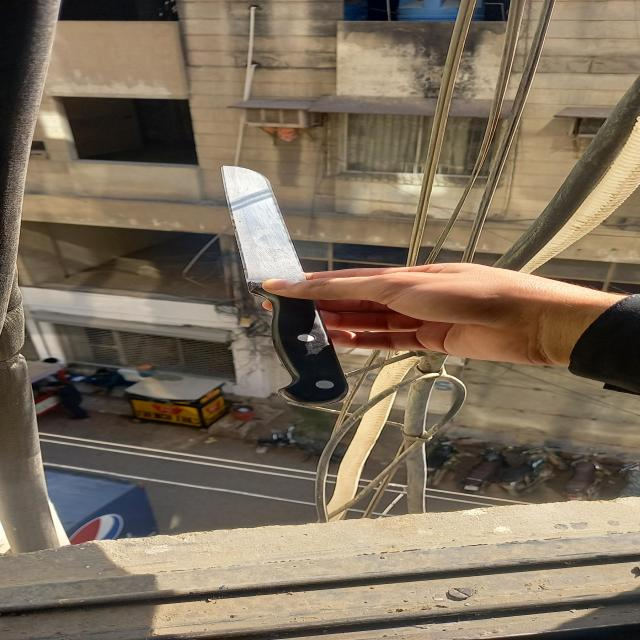Knife: (221, 166, 354, 405)
Person: (256, 264, 640, 398)
